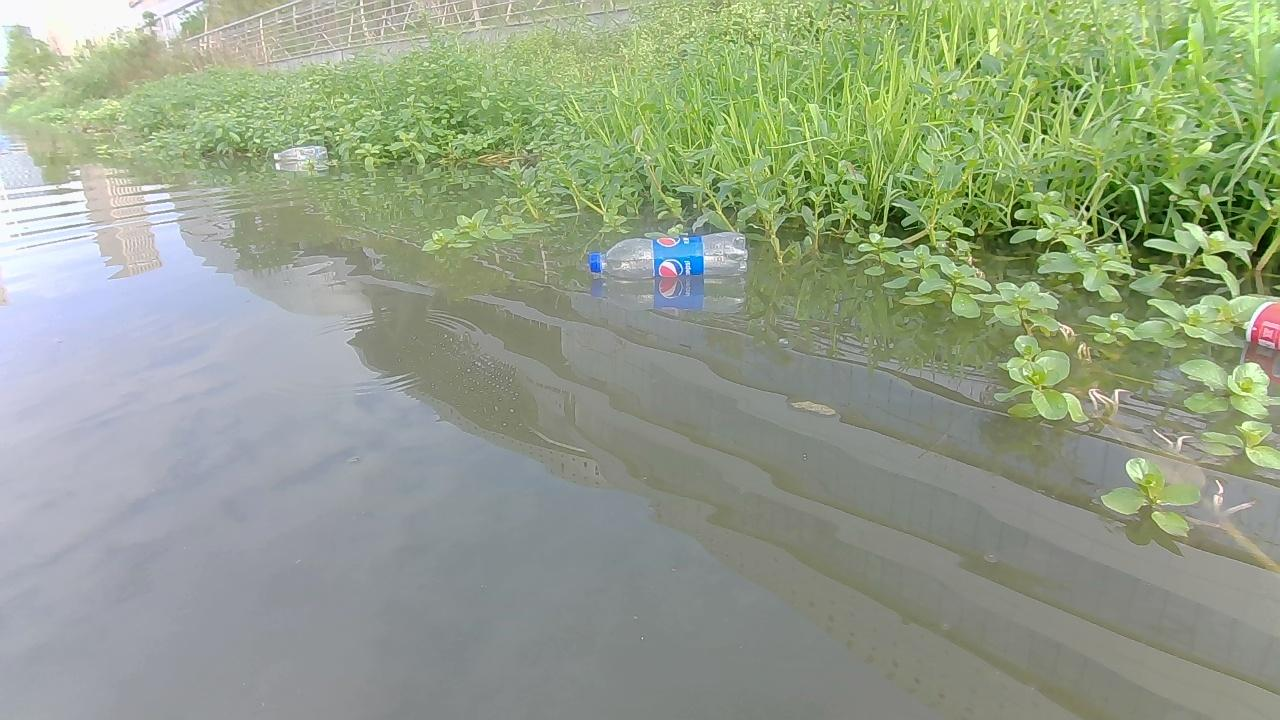bottle: (588, 229, 748, 287), (1218, 292, 1279, 347), (268, 145, 329, 167)
